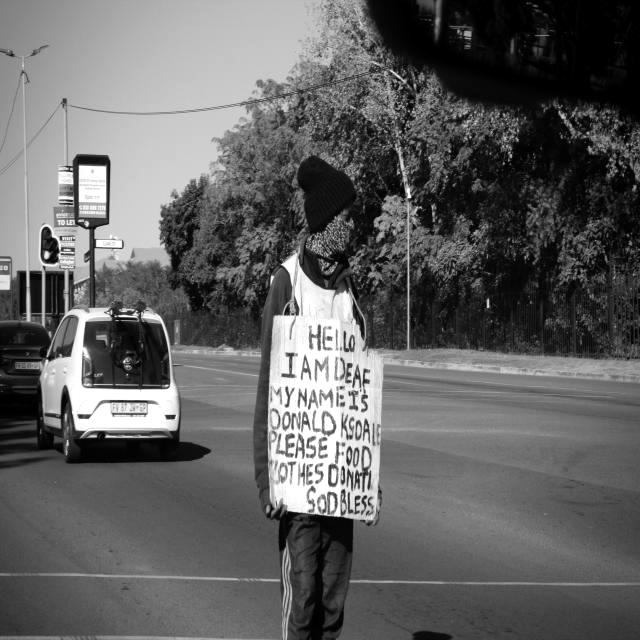no_hard_hat: (297, 156, 357, 235)
person: (253, 156, 364, 640)
